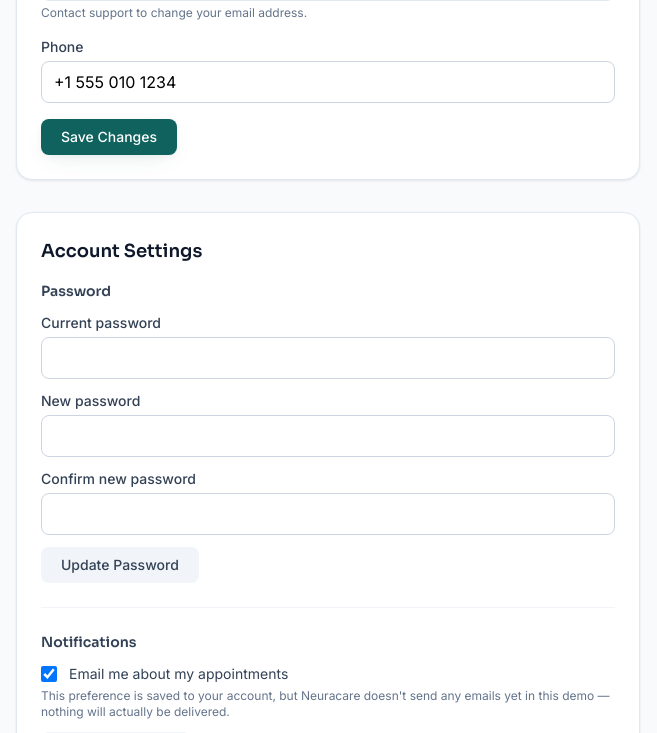
Profile › validates the password form before submitting
(page scrolled)
Type "oldpassword123" into the password field labelled "Current password" at (328, 358), box [41,337,615,379]
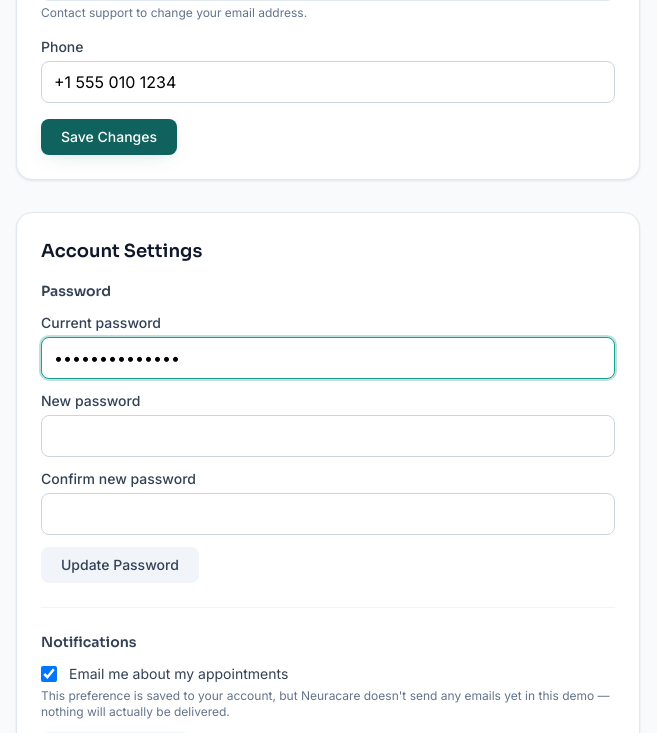
Type "short" into the password field labelled "New password" at (328, 436), box [41,415,615,457]
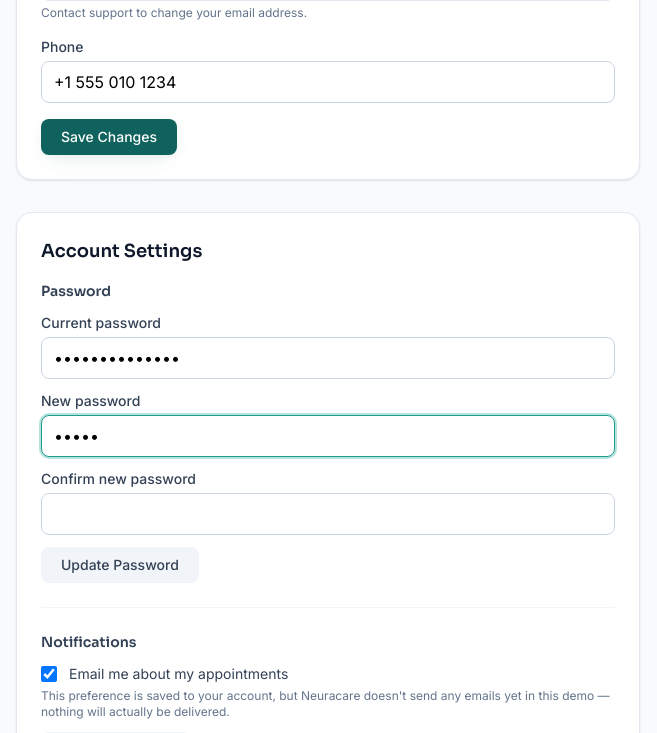
Type "different" into the password field labelled "Confirm new password" at (328, 514), box [41,493,615,535]
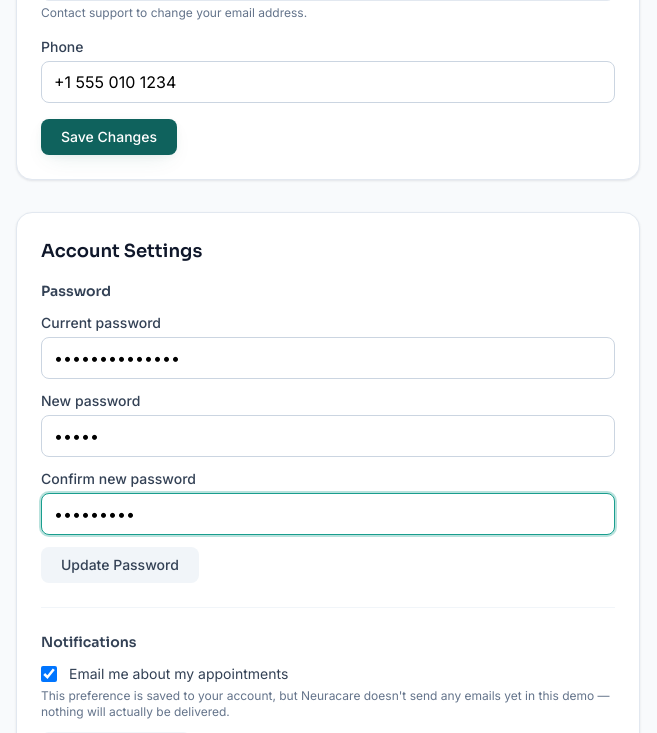
Click the button "Update Password" at (120, 565), box [41,547,199,583]
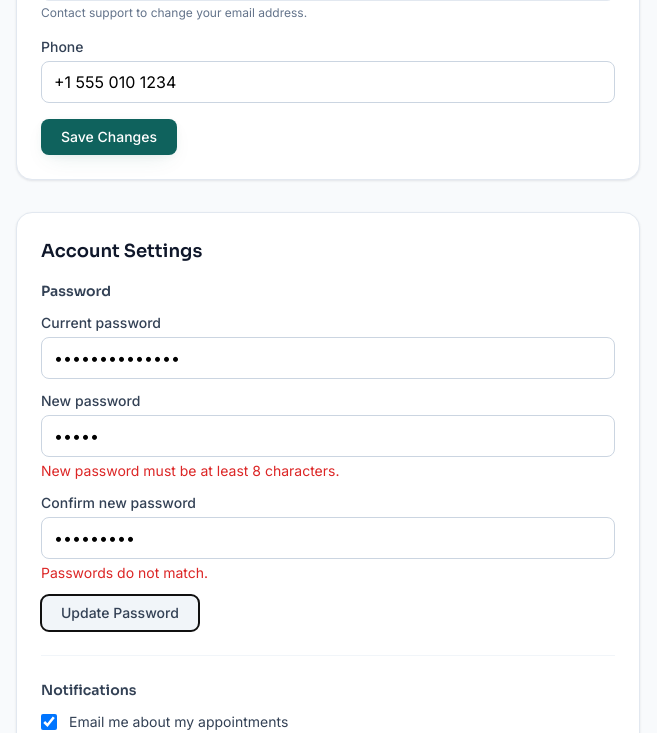
Check: the text "New password must be at least 8 characters." is shown, box [41,462,340,479]
Check: the text "Passwords do not match." is shown, box [41,564,208,581]
